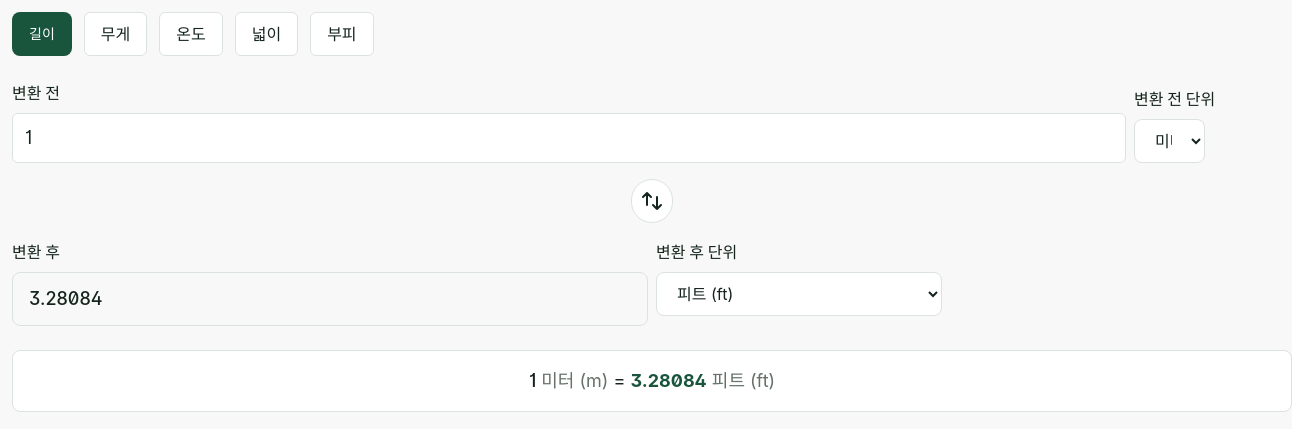
Test: UnitConverter › swaps units when swap button is clicked
// Find and click swap button
Click the button named "변환 단위 맞바꾸기". click: (652, 201)
box: [631,179,673,223]
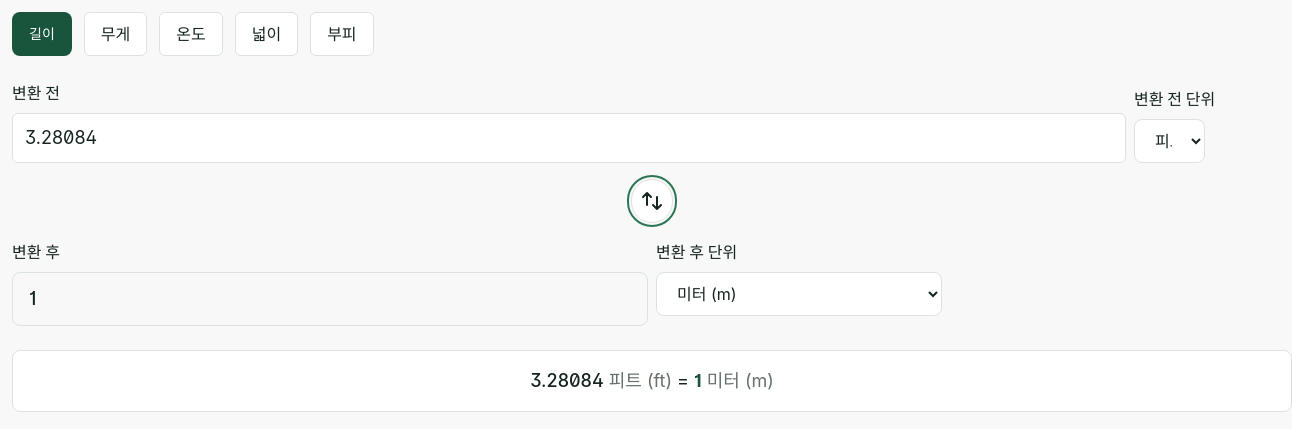
Result: the dropdown labelled "변환 전 단위" shows "피트 (ft)" at [1134,119,1205,163]
Result: the dropdown labelled "변환 후 단위" shows "미터 (m)" at [656,272,942,316]
